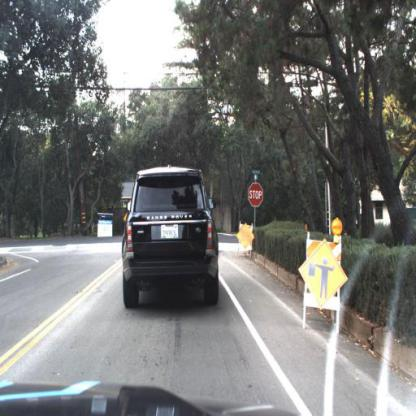car: (116, 157, 222, 316)
